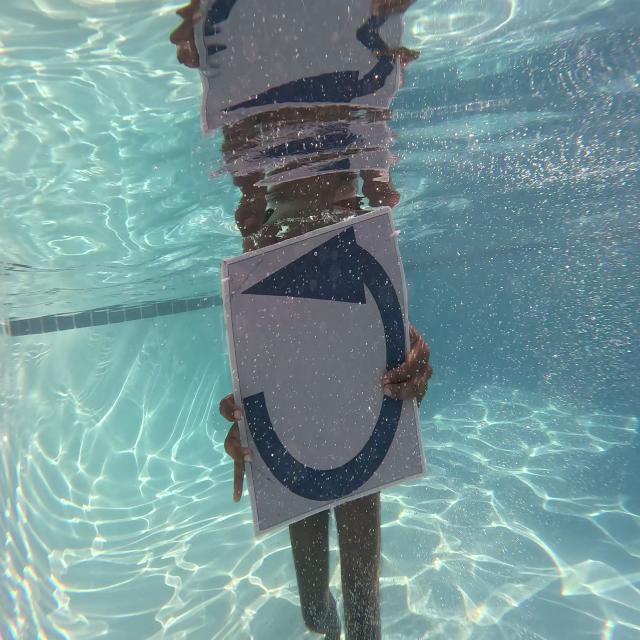blue_side: (219, 214, 426, 502)
